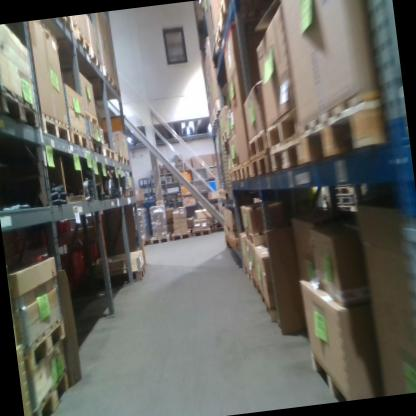pallet: (294, 86, 388, 173), (21, 317, 70, 374), (310, 347, 357, 404), (28, 365, 74, 416), (0, 80, 40, 134), (263, 103, 301, 146), (40, 106, 73, 149), (267, 133, 302, 172), (92, 263, 146, 288), (245, 127, 270, 162), (69, 26, 93, 61), (66, 122, 90, 156), (261, 289, 280, 322), (248, 151, 271, 177), (243, 226, 269, 247), (80, 107, 100, 131), (50, 16, 74, 36), (89, 49, 104, 76), (98, 143, 116, 165), (101, 66, 115, 93), (86, 134, 103, 156), (252, 275, 264, 303), (239, 158, 253, 180), (149, 231, 171, 244), (169, 228, 191, 240), (228, 165, 241, 182), (191, 227, 211, 237), (113, 151, 125, 166)
